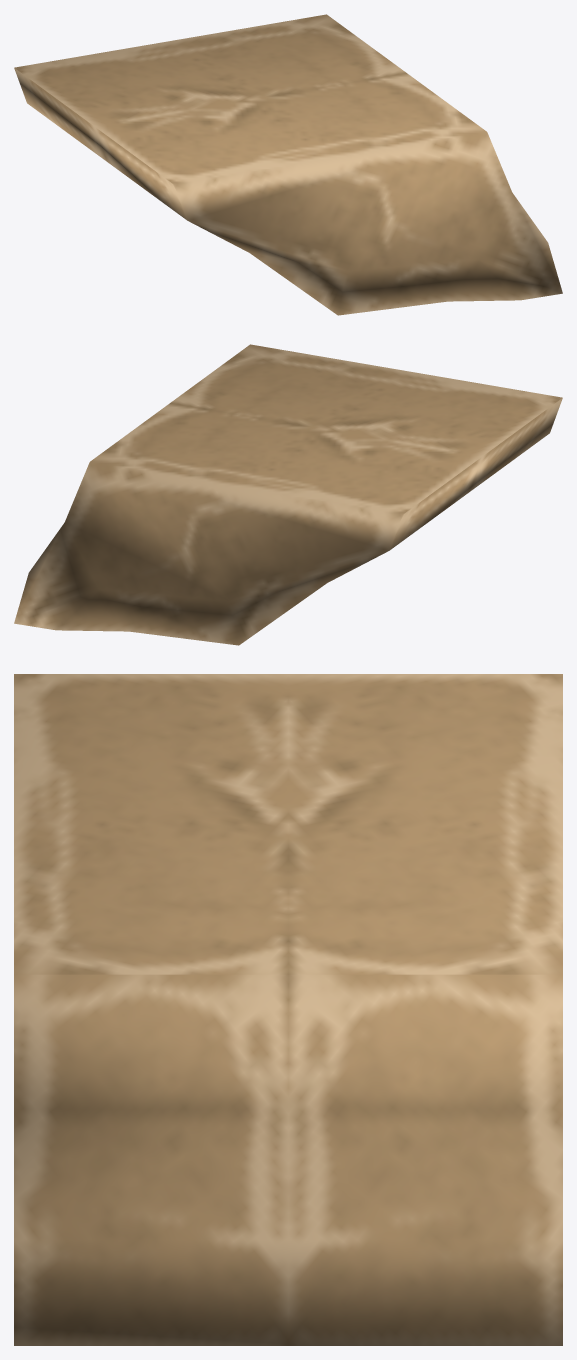
The model's file is FBX_flying_stone_03.fbx.
The picture shows the model from 3 angles, top to bottom: view 1: azimuth 30°, elevation 25°; view 2: azimuth 150°, elevation 25°; view 3: azimuth 270°, elevation 25°; orthographic projection. The views are drawn at different scales.
Visible parts, largest first — view 1: polySurface_flying_stone_03; view 2: polySurface_flying_stone_03; view 3: polySurface_flying_stone_03.
Part boxes in pixels (x1,y1,x2,y2): polySurface_flying_stone_03: (14, 14, 562, 315); polySurface_flying_stone_03: (14, 344, 562, 645); polySurface_flying_stone_03: (14, 674, 562, 1345).
Size of the model in its own units: 3.43 by 1.71 by 2.45.
